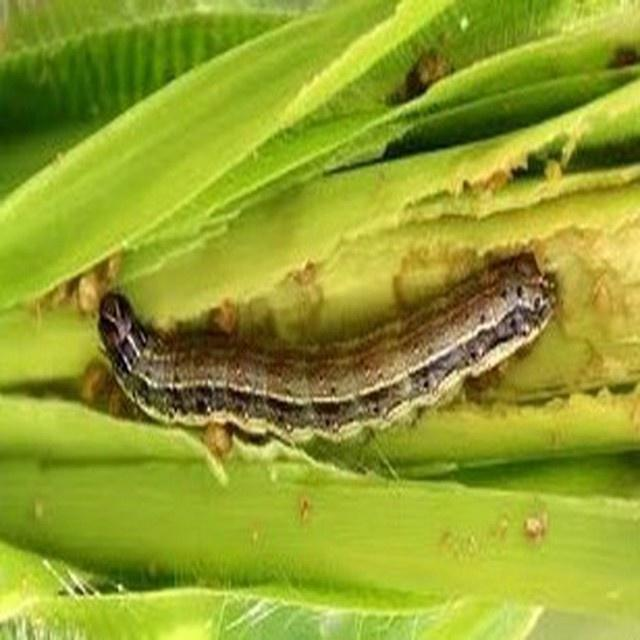gusano_cogollero: (90, 249, 562, 445)
